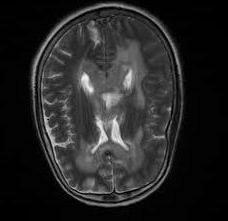Normal_Brain: (21, 9, 211, 221)
